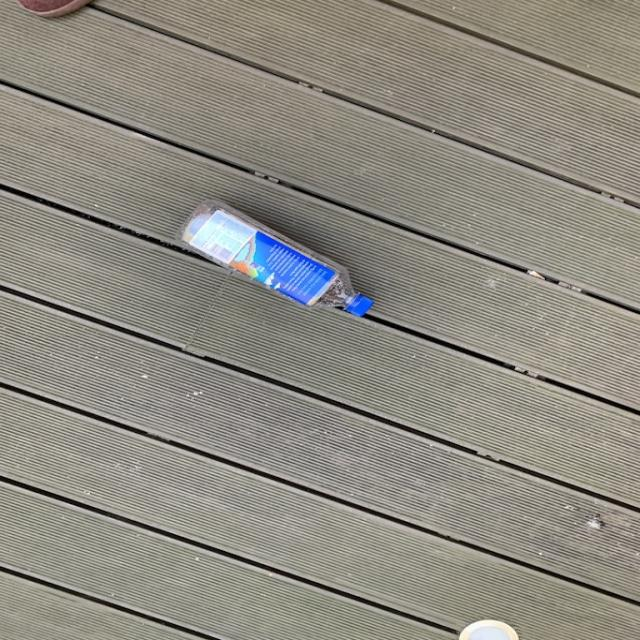litter: (172, 196, 378, 322)
